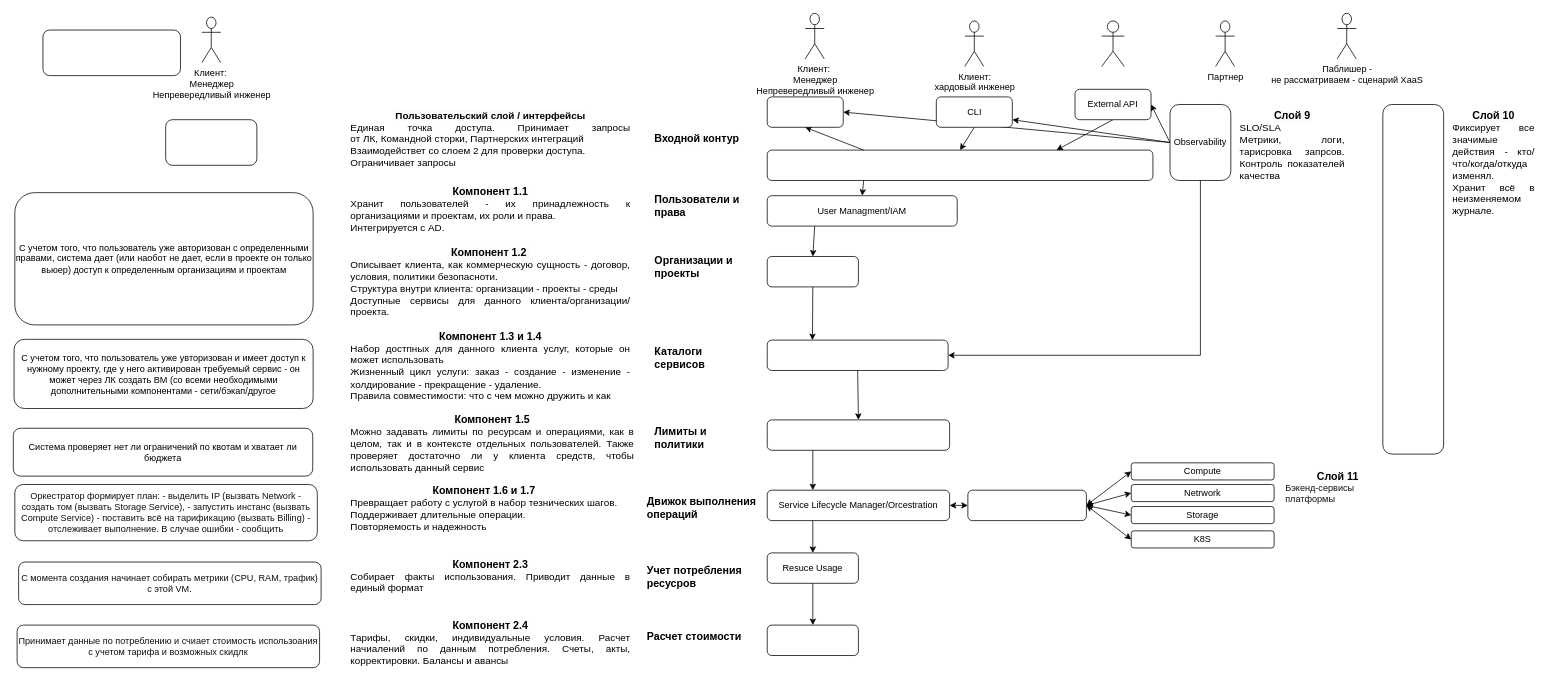
Image size: 1548x681. Some labels were removed from this diagram. Here are the shapes that lost their labels. From the top down, the centre of each, then its label:
point (111, 52): Уже авторизован в ЛК в определенной роли, подразумевающей ряд прав
point (1112, 43): Партнерское приложение
point (804, 111): UI
point (211, 142): Заходит в ЛК, чтобы создать VM
point (959, 164): Public API Gateway
point (812, 271): Tenant/Managment
point (1413, 279): Audit / Compliance
point (857, 354): Resurce Managment/Service Catalog
point (858, 434): Quota Managment
point (1026, 505): Inetrnal API Gateway
point (812, 640): Billing
